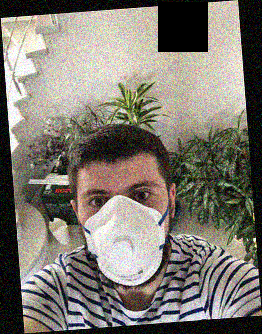with_mask: (80, 169, 168, 290)
